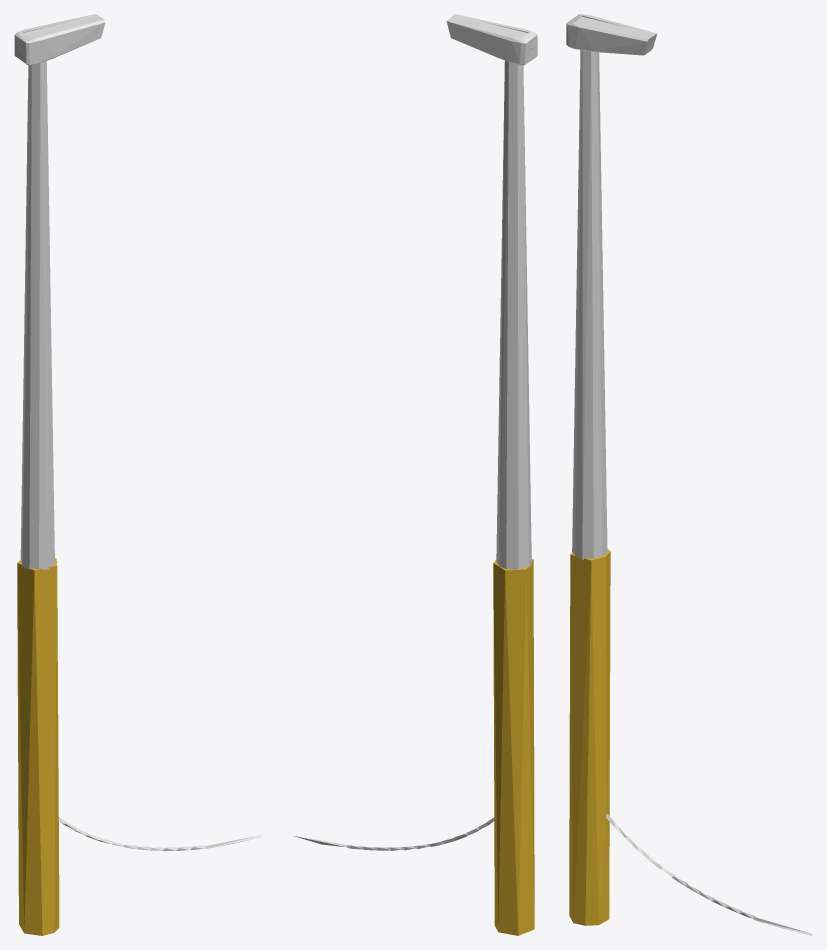
Rendered from monopile2_low.dae.
3 renders of one model, left to right at view 1: azimuth 30°, elevation 25°; view 2: azimuth 150°, elevation 25°; view 3: azimuth 330°, elevation 25°, orthographic.
Parts seen in each view (by area): view 1: turbine_mast0001, cable; view 2: turbine_mast0001, cable; view 3: turbine_mast0001, cable.
Boxes of the visible parts, left/top/right/bottom form: turbine_mast0001: left=14, top=14, right=105, bottom=569; cable: left=17, top=558, right=262, bottom=935; turbine_mast0001: left=446, top=14, right=537, bottom=569; cable: left=293, top=559, right=534, bottom=935; turbine_mast0001: left=566, top=14, right=657, bottom=559; cable: left=569, top=549, right=812, bottom=935.
Size of the model in its own units: 34.55 by 5.19 by 123.
